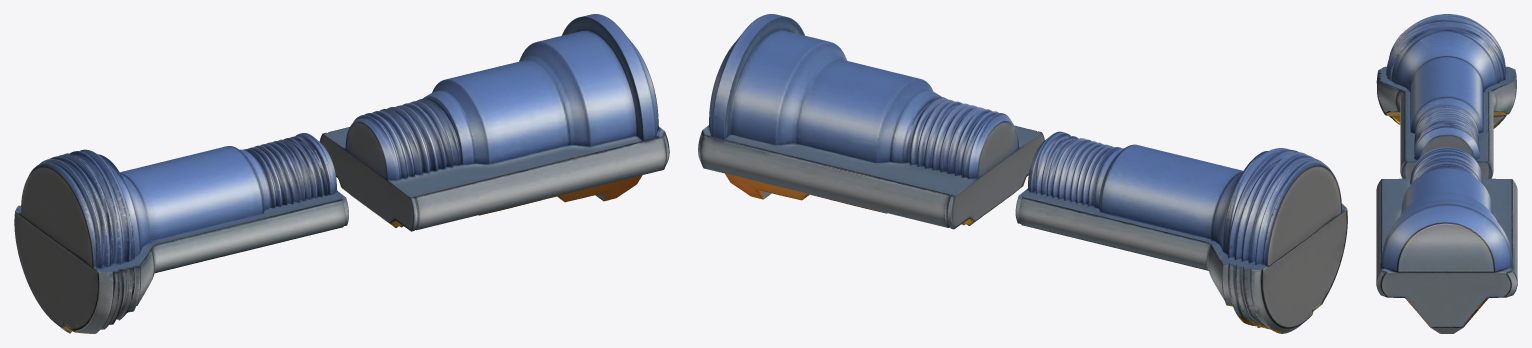
The model's file is AccesorioConexionCrossOver.glb.
3 renders of one model, left to right at view 1: azimuth 30°, elevation 25°; view 2: azimuth 150°, elevation 25°; view 3: azimuth 270°, elevation 25°, orthographic. The views are drawn at different scales.
Visible parts, largest first — view 1: tripo_node_fa7c6e3b-e0a4-4668-9562-ca77588cb712; view 2: tripo_node_fa7c6e3b-e0a4-4668-9562-ca77588cb712; view 3: tripo_node_fa7c6e3b-e0a4-4668-9562-ca77588cb712.
Part boxes in pixels (x1=…): tripo_node_fa7c6e3b-e0a4-4668-9562-ca77588cb712: x1=14, y1=14, x2=669, y2=333; tripo_node_fa7c6e3b-e0a4-4668-9562-ca77588cb712: x1=698, y1=14, x2=1347, y2=333; tripo_node_fa7c6e3b-e0a4-4668-9562-ca77588cb712: x1=1376, y1=14, x2=1517, y2=333.
Bounding box in the file's own units: 0.9816 × 0.2915 × 0.2844.
1 material, 1 textured.
